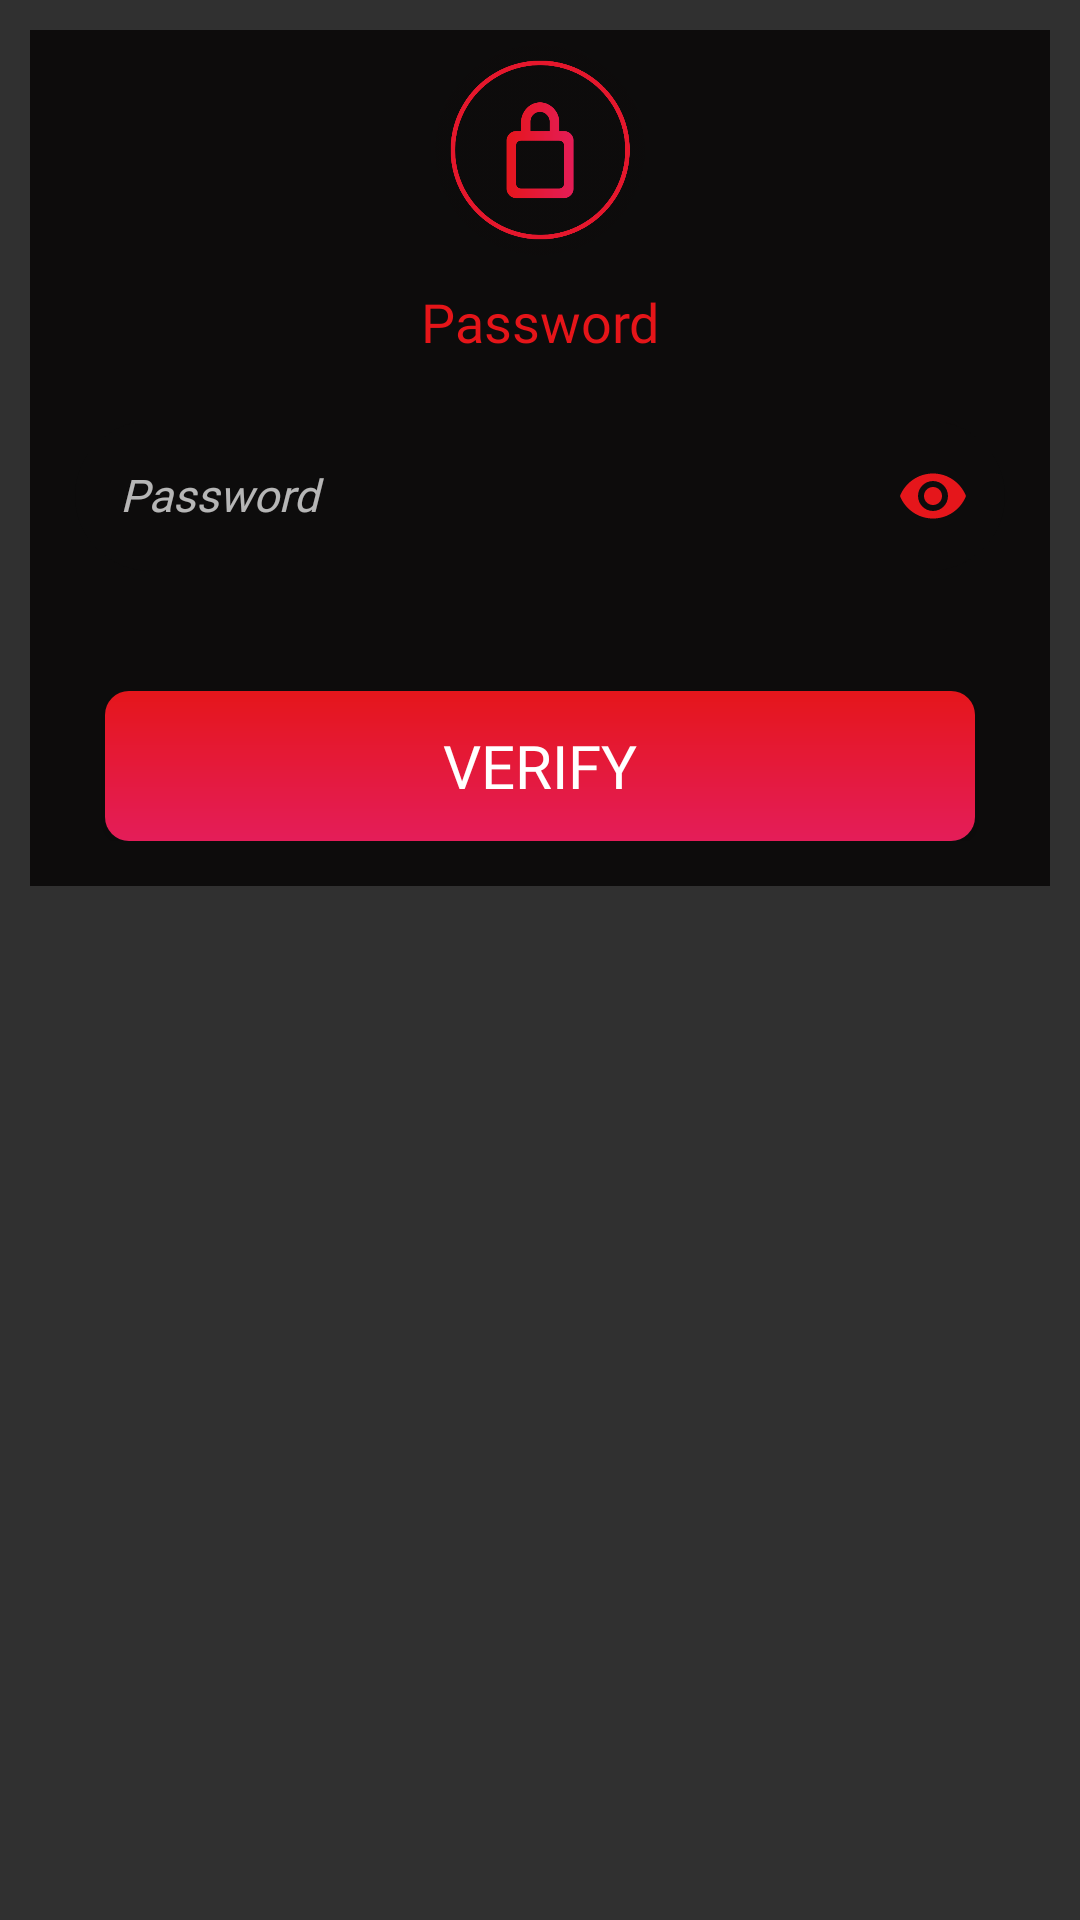

Locate icon controls on the screen. Image size 1080×1920, boxes as region(x1, y1, x2, y2).
lock: region(450, 60, 630, 240)
